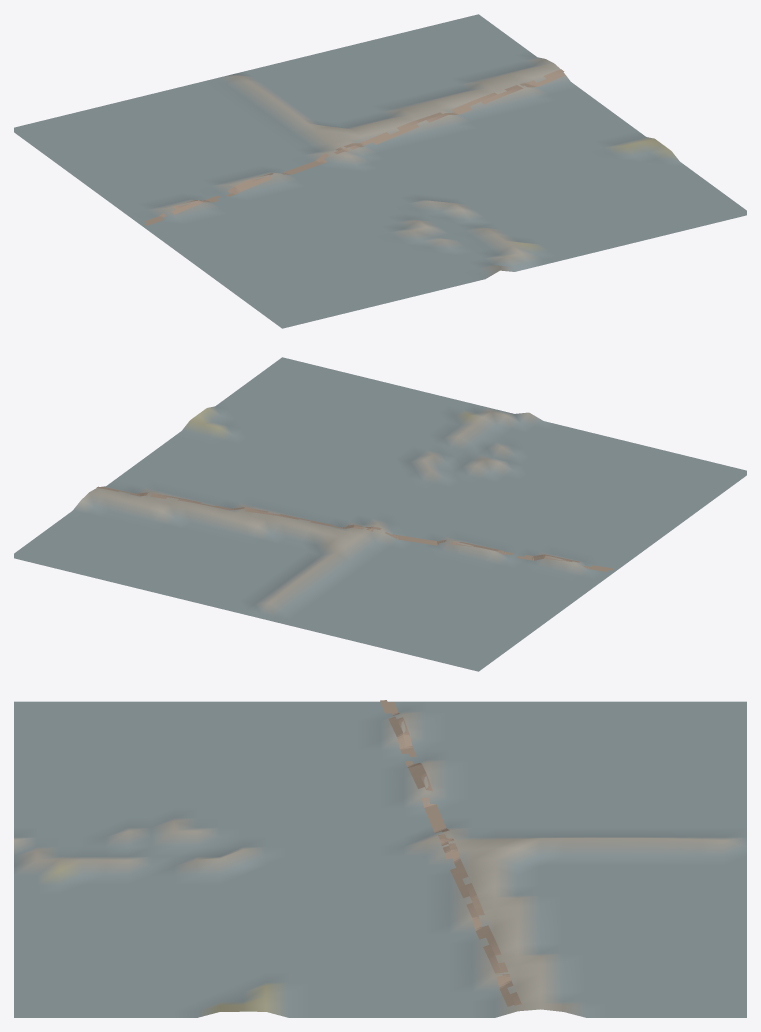
The picture shows the model from 3 angles, top to bottom: view 1: azimuth 30°, elevation 25°; view 2: azimuth 150°, elevation 25°; view 3: azimuth 270°, elevation 25°; orthographic projection. The views are drawn at different scales.
Parts seen in each view (by area): view 1: prim0, prim1; view 2: prim0, prim1; view 3: prim0, prim1.
Part boxes in pixels (x1=…): prim0: x1=14, y1=14, x2=746, y2=328; prim1: x1=144, y1=69, x2=565, y2=225; prim0: x1=14, y1=357, x2=746, y2=671; prim1: x1=96, y1=486, x2=613, y2=571; prim0: x1=14, y1=701, x2=746, y2=1017; prim1: x1=380, y1=700, x2=521, y2=1006.
Bounding box in the file's own units: 515 × 12.05 × 512.
